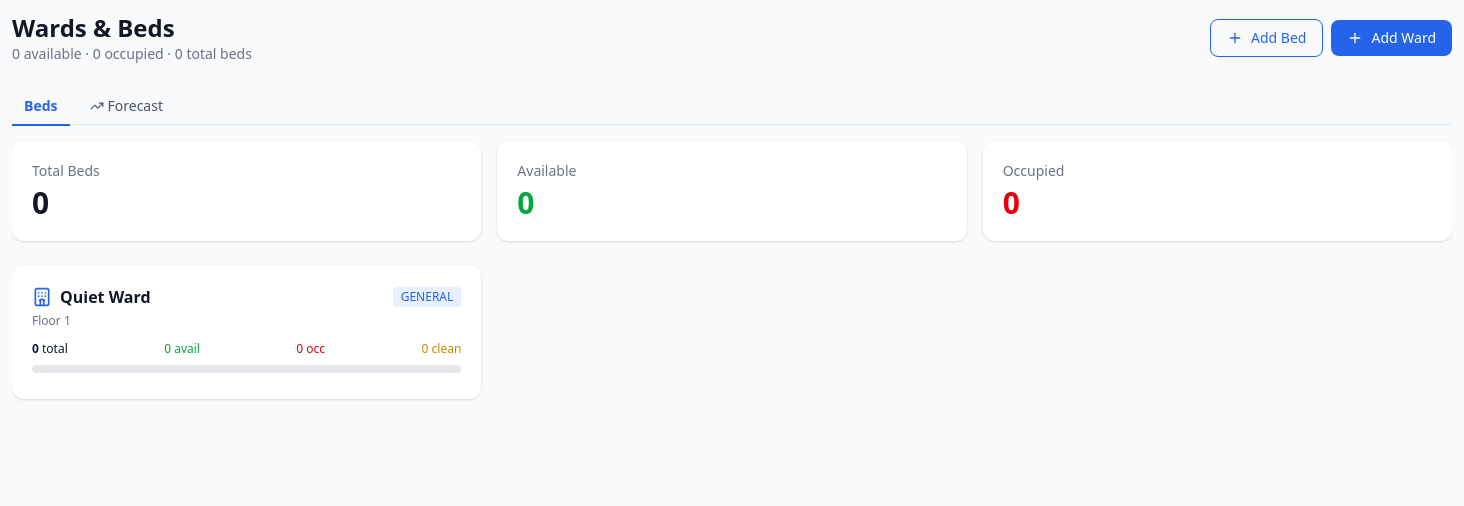
it: WardsPage (Wards & Beds admin — full surface) › expanded ward with no beds renders the 'No beds yet.' empty branch
What coordinates should you click on to do the following:
click the button "Quiet Ward GENERAL Floor 1 0 total 0 avail 0 occ 0 clean"
I would click on:
 (105, 297)
Its box is [32,285,461,373].
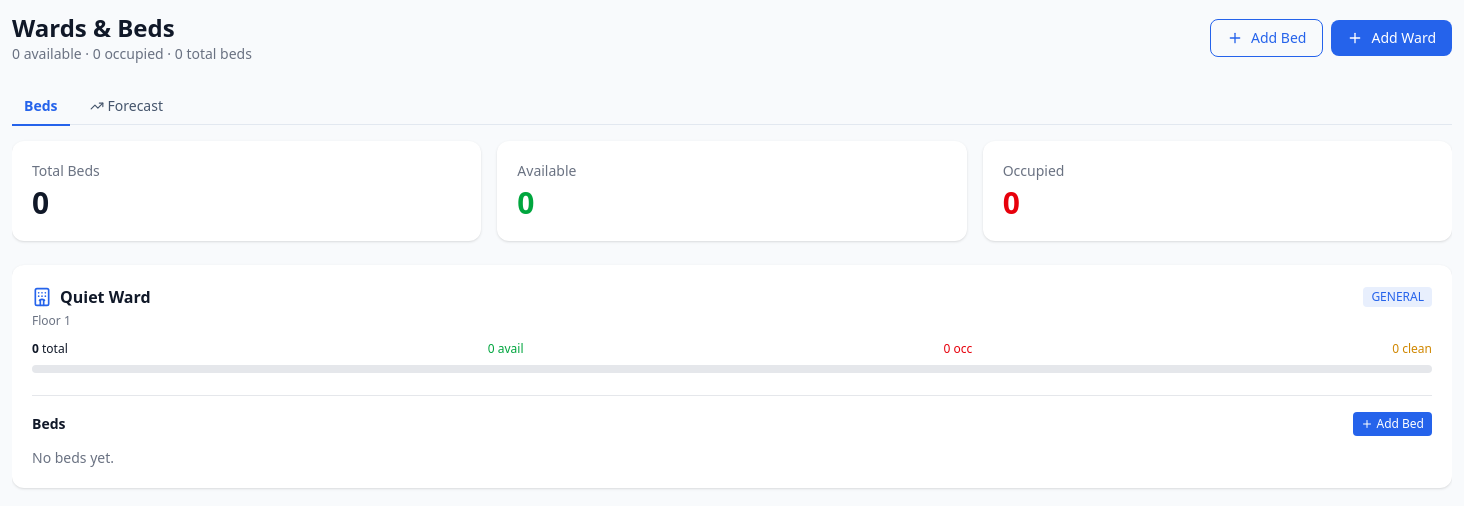
Expected: the text "No beds yet." is shown, [32,448,114,467]
